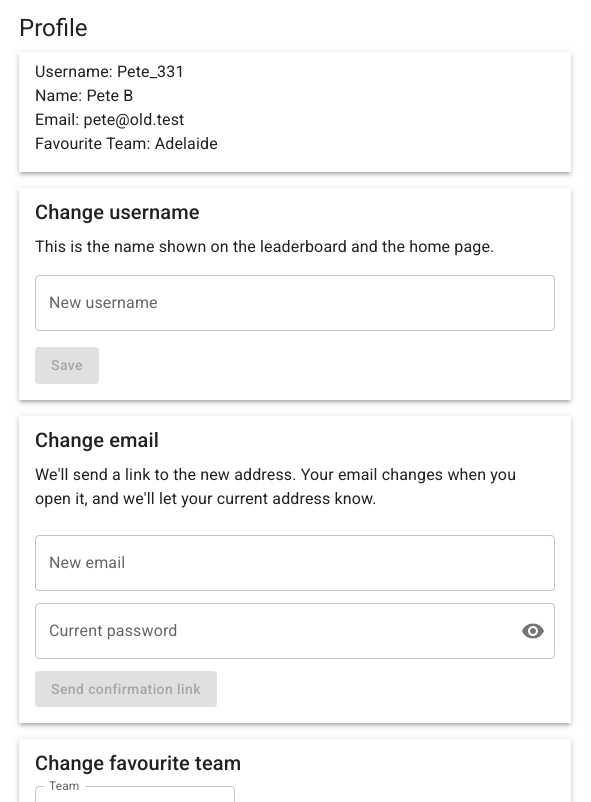
Test case: changing your email › an address that isn't one is caught before it is sent
Type "not an address" into the field labelled "New email". click: (295, 563)
box: [35,535,555,591]
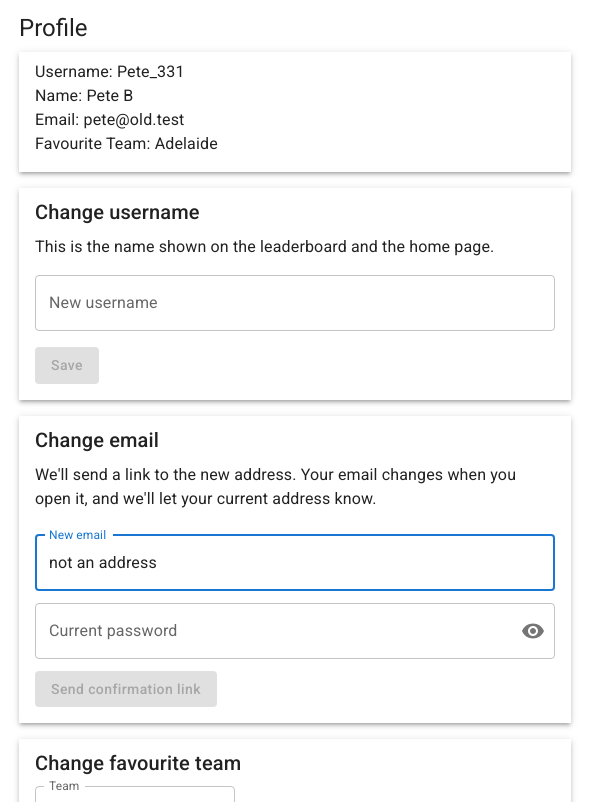
Type "Passw0rd1" into the password field labelled "Current password". click: (270, 631)
box: [35,603,505,659]
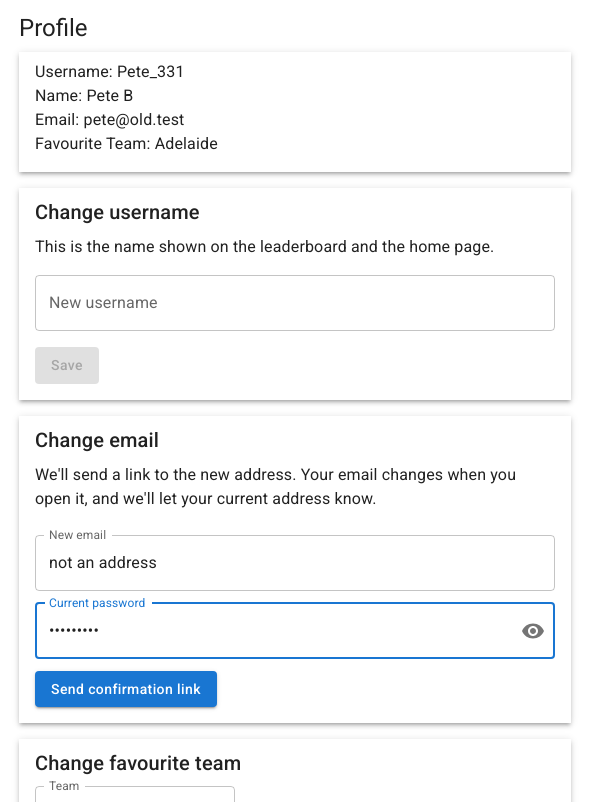
Click the button "Send confirmation link". click: (126, 689)
box: [35,671,217,707]
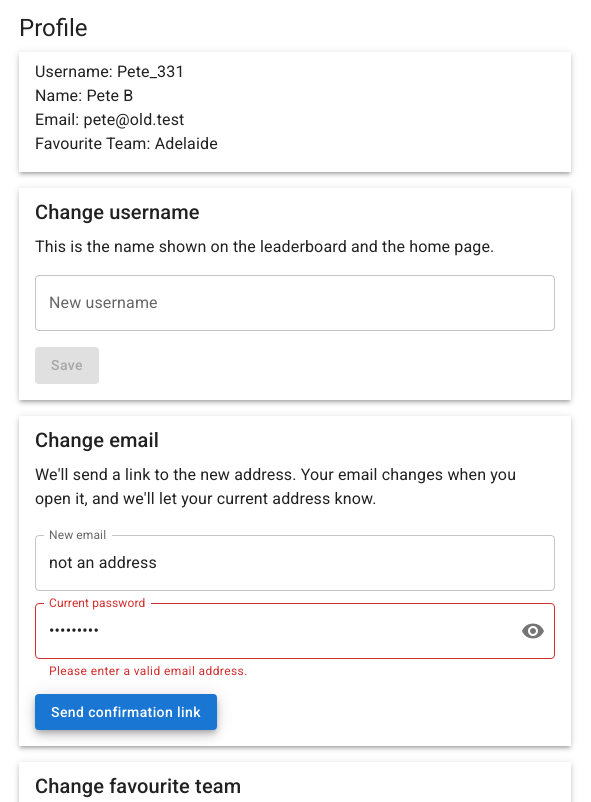
Expected: the text "Please enter a valid email address." is shown, [49,664,248,678]
